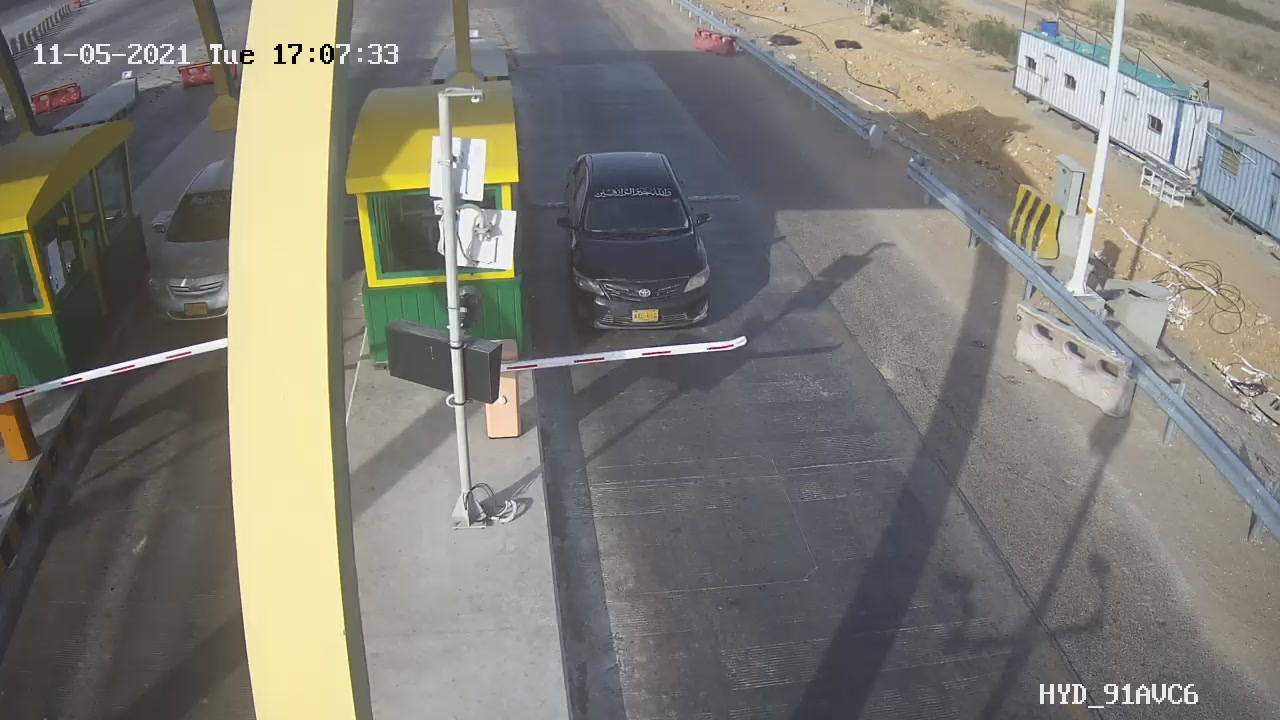F1: (539, 135, 735, 355)
